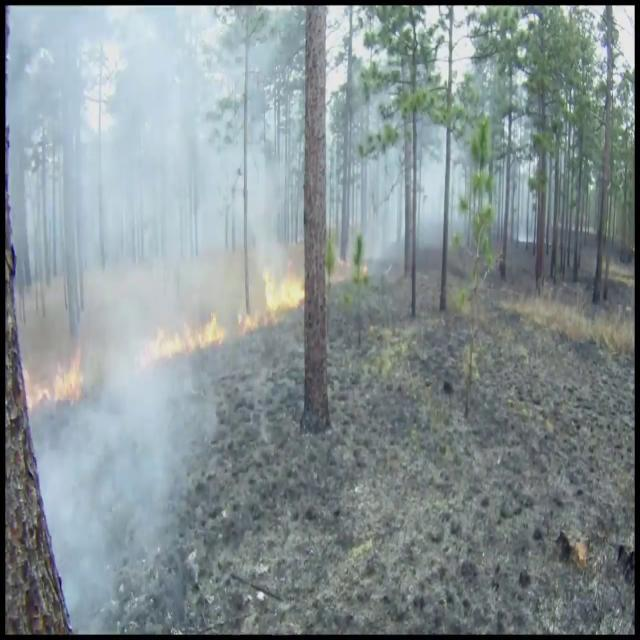Fire: (264, 264, 306, 320), (53, 350, 85, 410)
Smoke: (23, 9, 264, 622)
